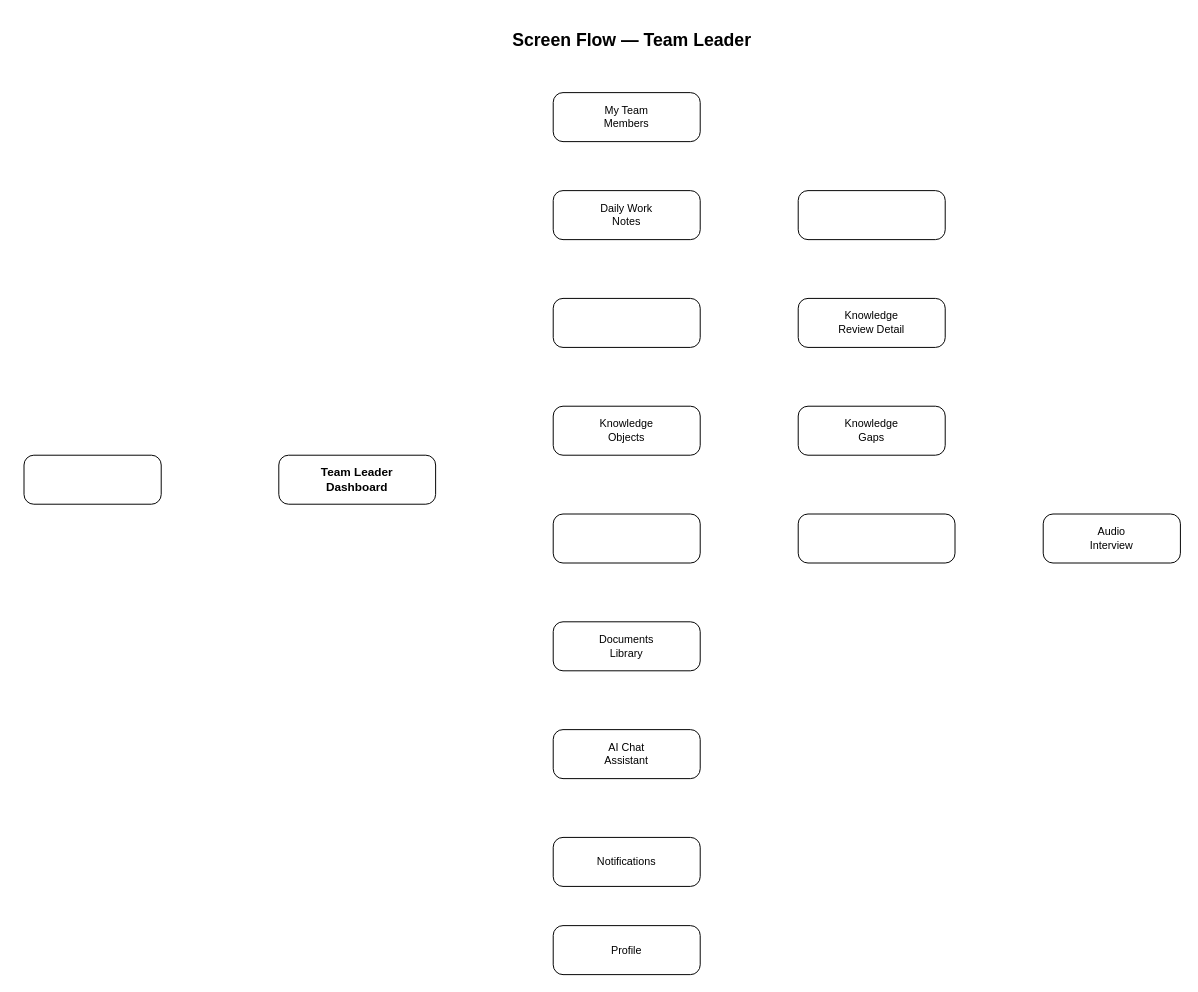
Some shapes in this 1198 by 992 pixel diagram are drawn without their labels. The shapes that lost their labels are listed below. From the top down, each one's centre as x and y in pixels, then its label:
point (871, 215): Create / Edit Work Note
point (626, 322): Verification Inbox
point (92, 479): Login Page
point (626, 538): Handover Management
point (876, 538): Handover Package Detail
